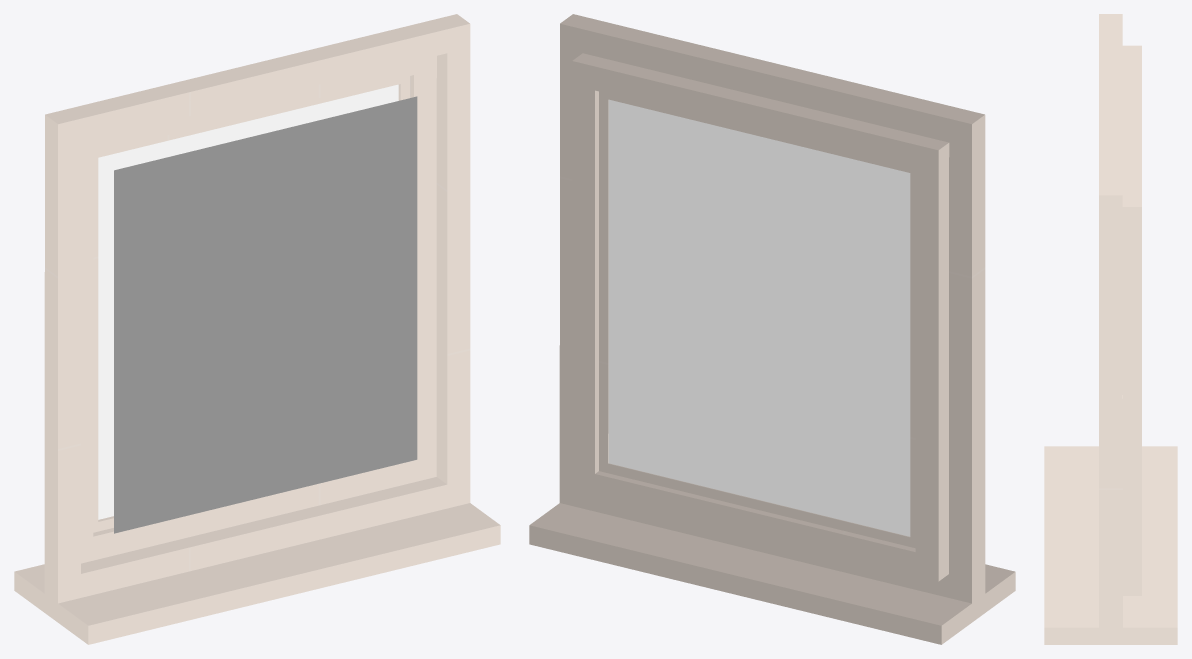
The model's file is Window_f21af3f9.obj.
3 views of the same model, side by side, from view 1: azimuth 30°, elevation 25°; view 2: azimuth 150°, elevation 25°; view 3: azimuth 270°, elevation 25° (orthographic). The views are drawn at different scales.
Parts seen in each view (by area): view 1: FP425:polySurface112_b179205e, QuadDecalSpawnPlane_a0ea1cf2, FP425:polySurface110_1_37ab7975; view 2: FP425:polySurface112_b179205e, FP425:polySurface110_1_37ab7975; view 3: FP425:polySurface112_b179205e.
Boxes of the visible parts, x1=… form: FP425:polySurface112_b179205e: x1=14, y1=14, x2=500, y2=644; QuadDecalSpawnPlane_a0ea1cf2: x1=114, y1=96, x2=417, y2=533; FP425:polySurface110_1_37ab7975: x1=98, y1=84, x2=398, y2=519; FP425:polySurface112_b179205e: x1=529, y1=14, x2=1015, y2=644; FP425:polySurface110_1_37ab7975: x1=608, y1=99, x2=910, y2=536; FP425:polySurface112_b179205e: x1=1044, y1=14, x2=1177, y2=644.
Bounding box in the file's own units: 0.9 × 1.04 × 0.28.
